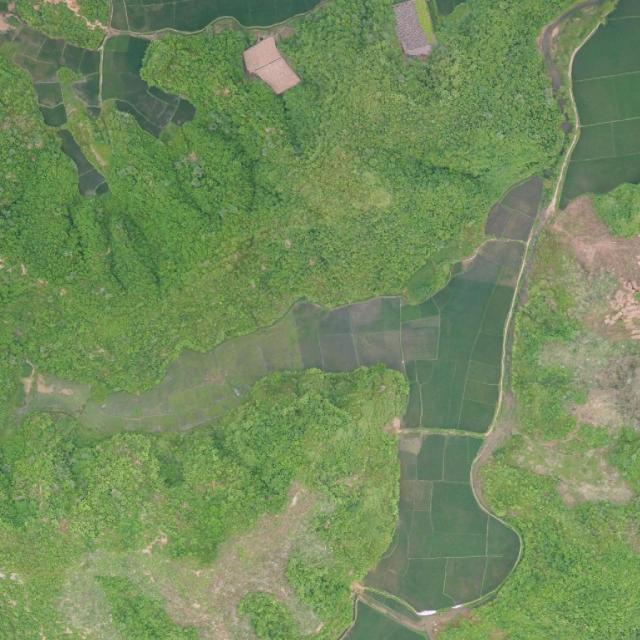greenland: (438, 185, 640, 639)
